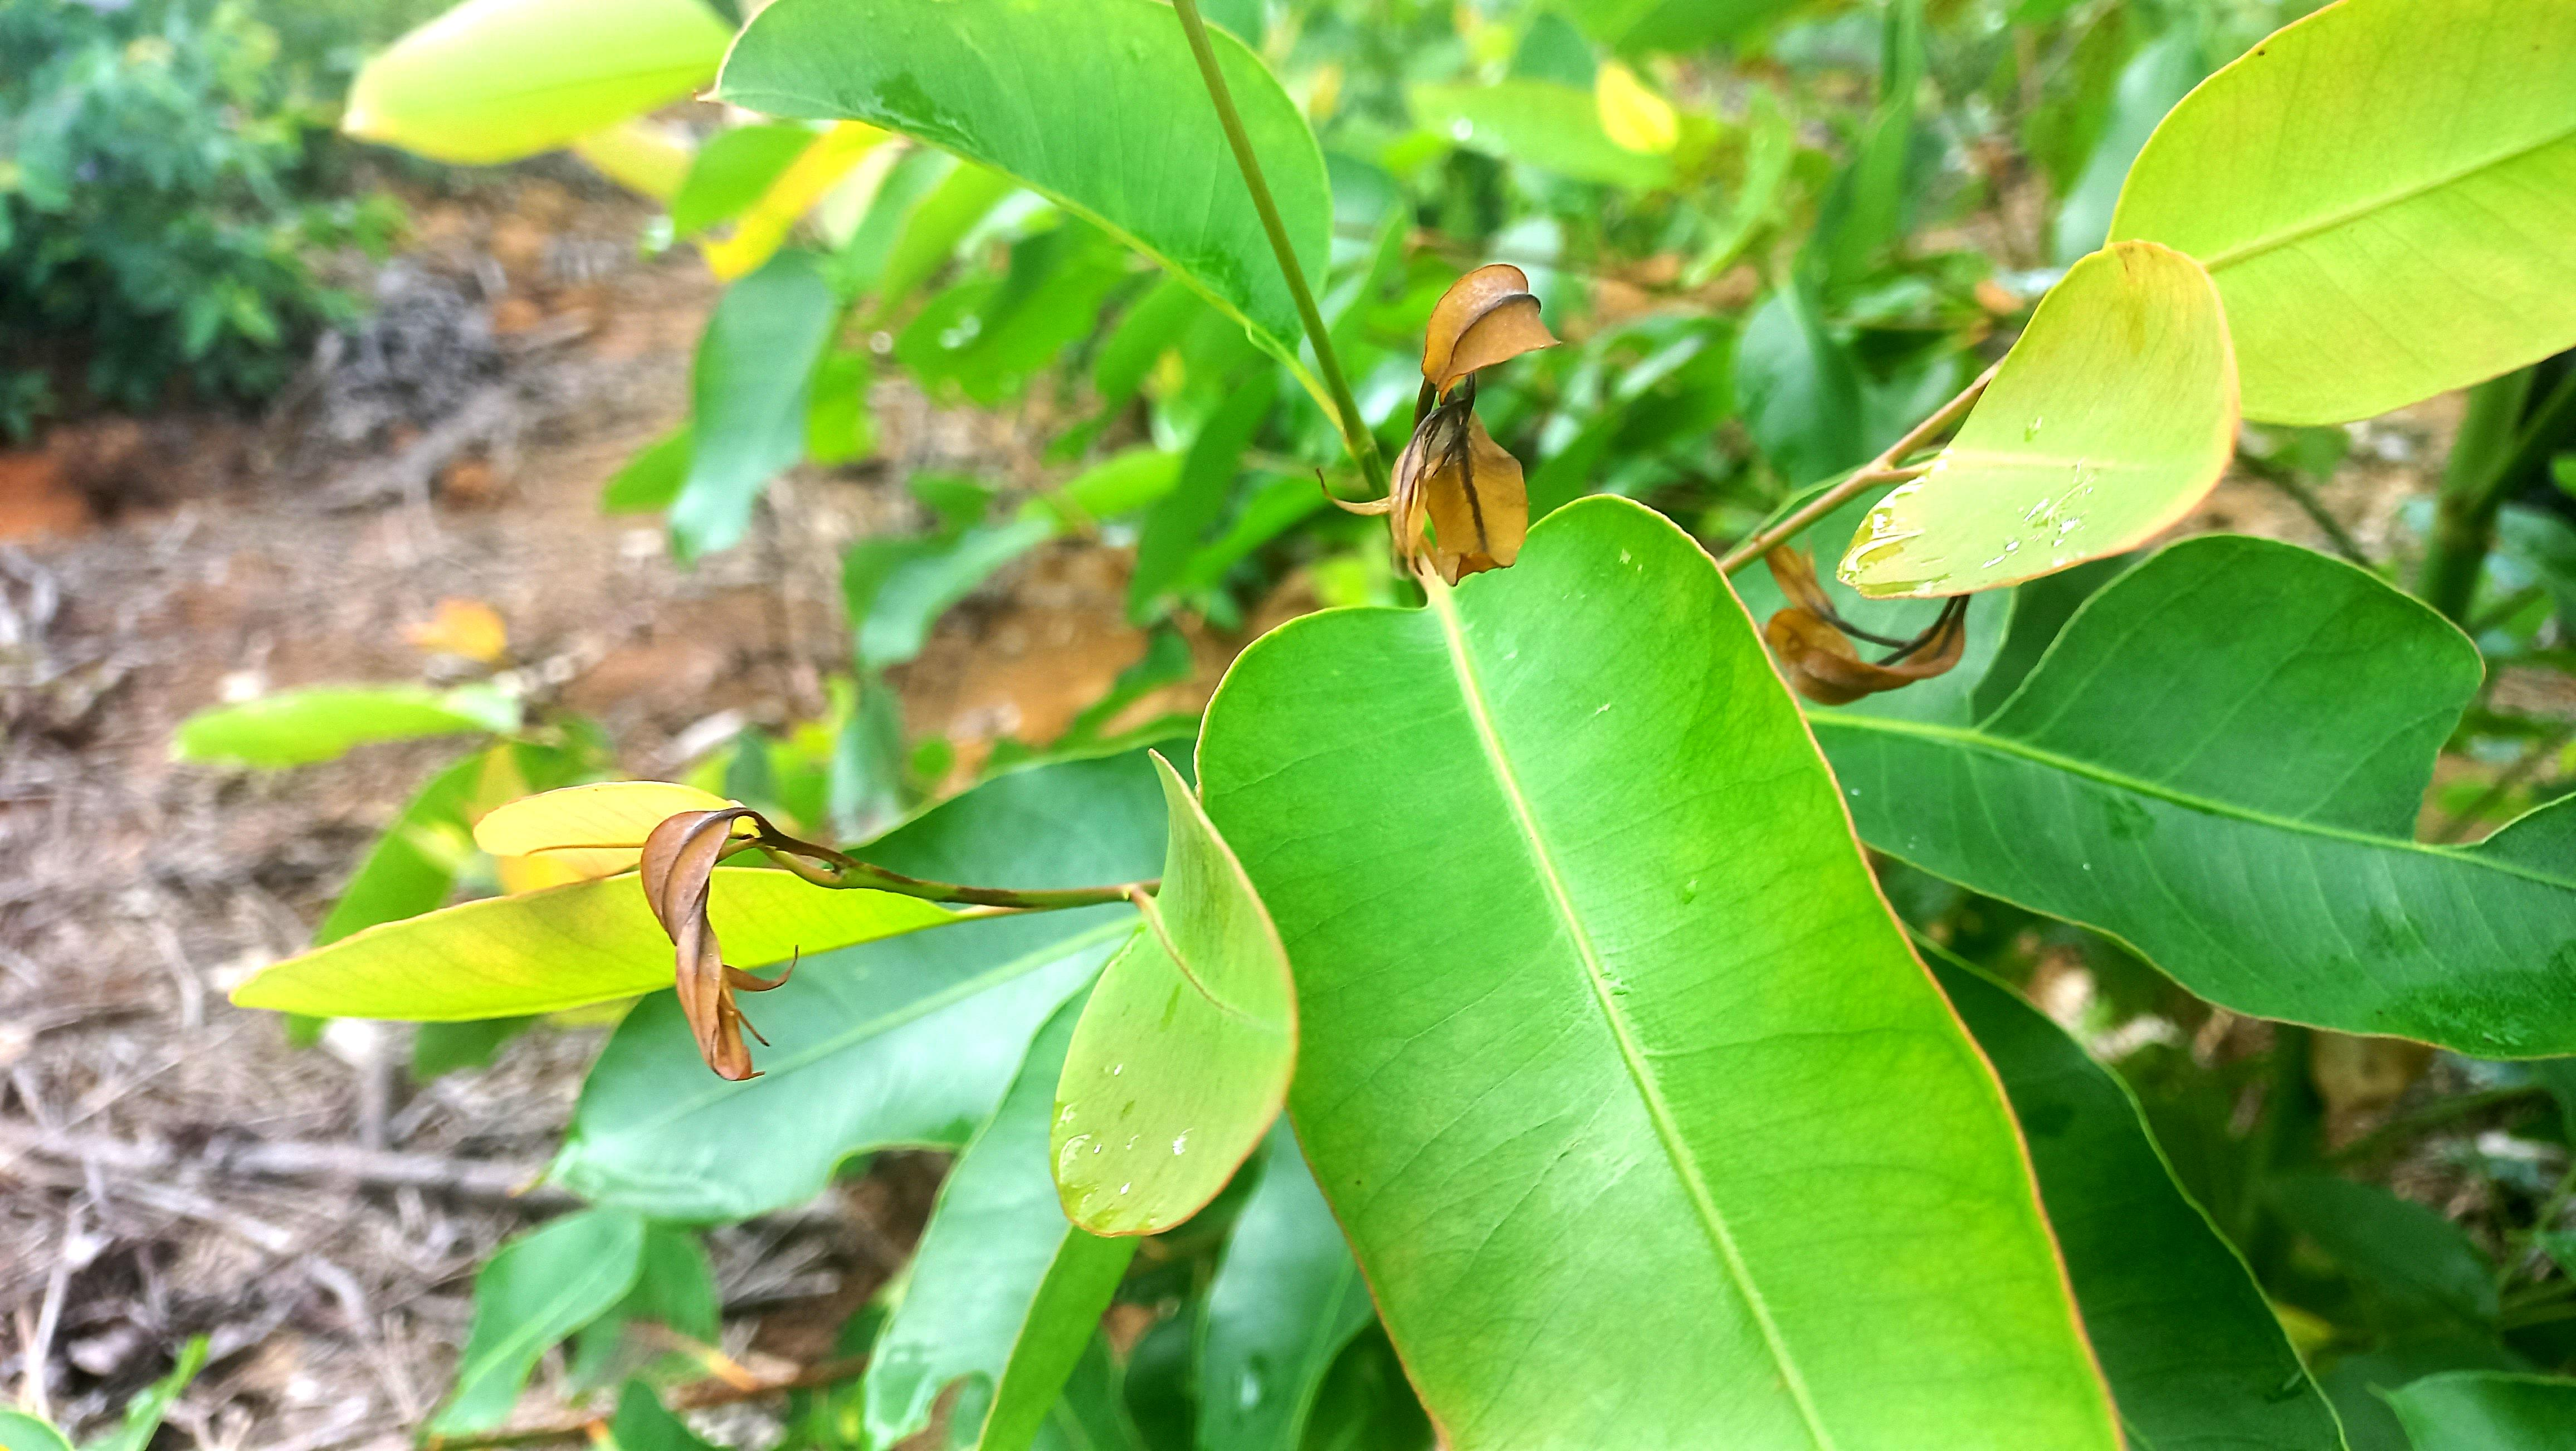Helopeltis-Withered Sprout: (635, 798, 807, 1108), (1764, 589, 1978, 713), (1352, 400, 1460, 580), (1417, 264, 1557, 398), (1428, 400, 1530, 572), (1764, 541, 1849, 630)
